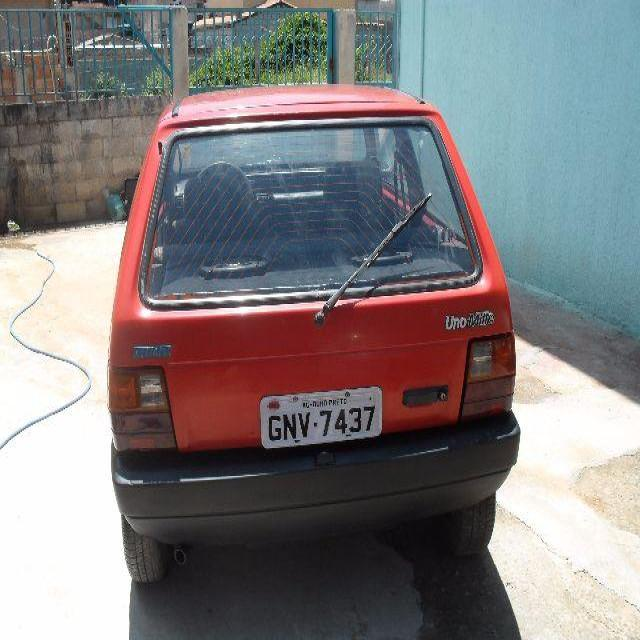Placa: (258, 384, 385, 452)
